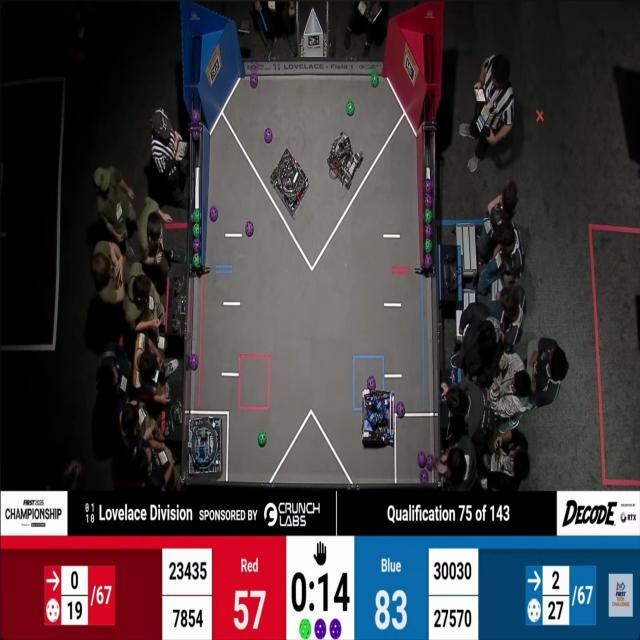artifact_green: (170, 404, 206, 431), (300, 619, 311, 639), (371, 71, 380, 88), (424, 238, 433, 254), (192, 254, 201, 269), (258, 431, 266, 447), (193, 208, 201, 223), (193, 238, 201, 253), (193, 223, 201, 237), (347, 101, 354, 116), (425, 208, 432, 223), (200, 429, 207, 438)
artifact_purple: (330, 619, 341, 639), (315, 619, 326, 639), (367, 375, 376, 392), (396, 402, 405, 418), (426, 454, 435, 470), (192, 109, 200, 125), (190, 354, 198, 370), (246, 221, 254, 237), (210, 206, 218, 222), (418, 452, 426, 468), (420, 469, 429, 483), (425, 193, 433, 208), (193, 238, 201, 253), (265, 128, 273, 143), (425, 254, 433, 268), (250, 74, 258, 88), (425, 224, 433, 238), (425, 179, 432, 193), (192, 129, 199, 141)
